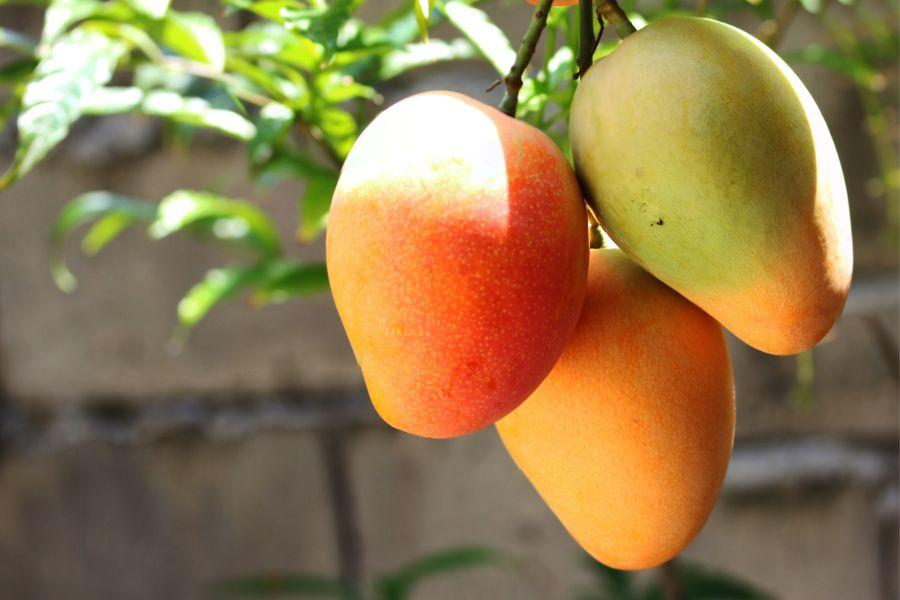mango: (321, 83, 590, 462), (565, 11, 857, 355), (497, 248, 739, 600)
